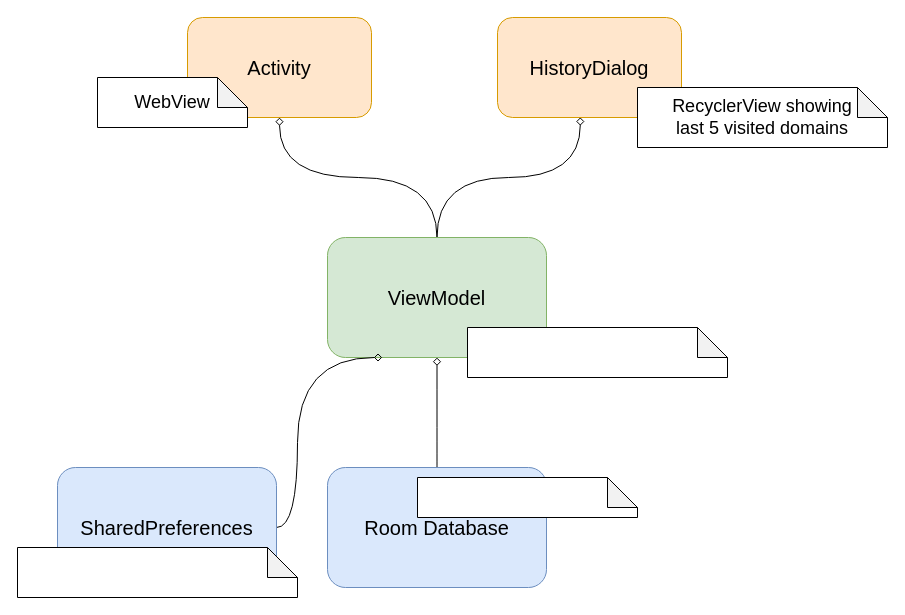
This 905x615 diagram has some shape labels left out. Here are the shapes that lost their labels. From the top down, the box of each, then its label:
(466, 326, 728, 378): LiveData of UrlEntity
(416, 476, 638, 518): Store URL History
(16, 546, 298, 598): Persist PREF_LOAD_IMAGES
